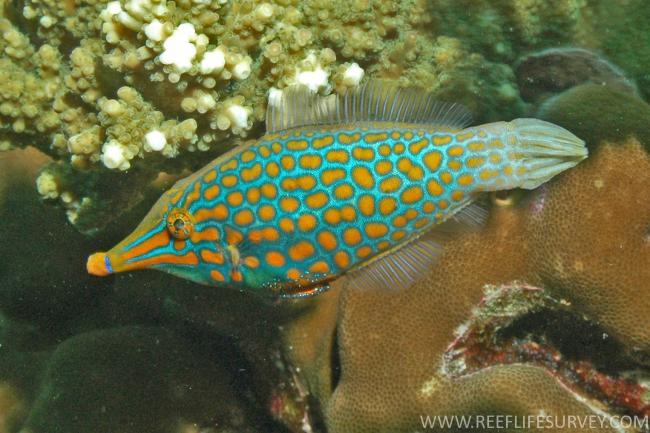fish: (84, 80, 589, 300)
